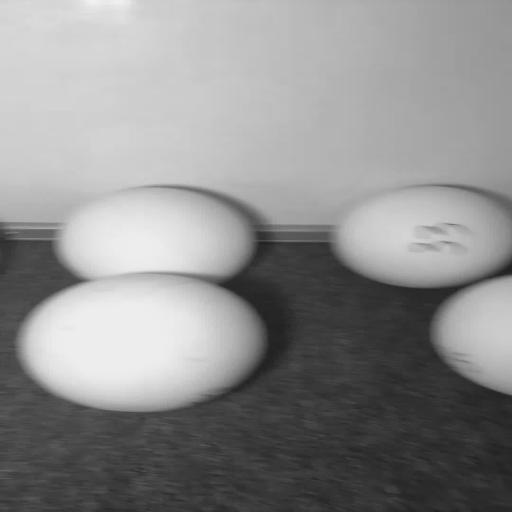fuel: (16, 272, 268, 412), (54, 185, 260, 292), (332, 183, 512, 292), (428, 274, 512, 398)
